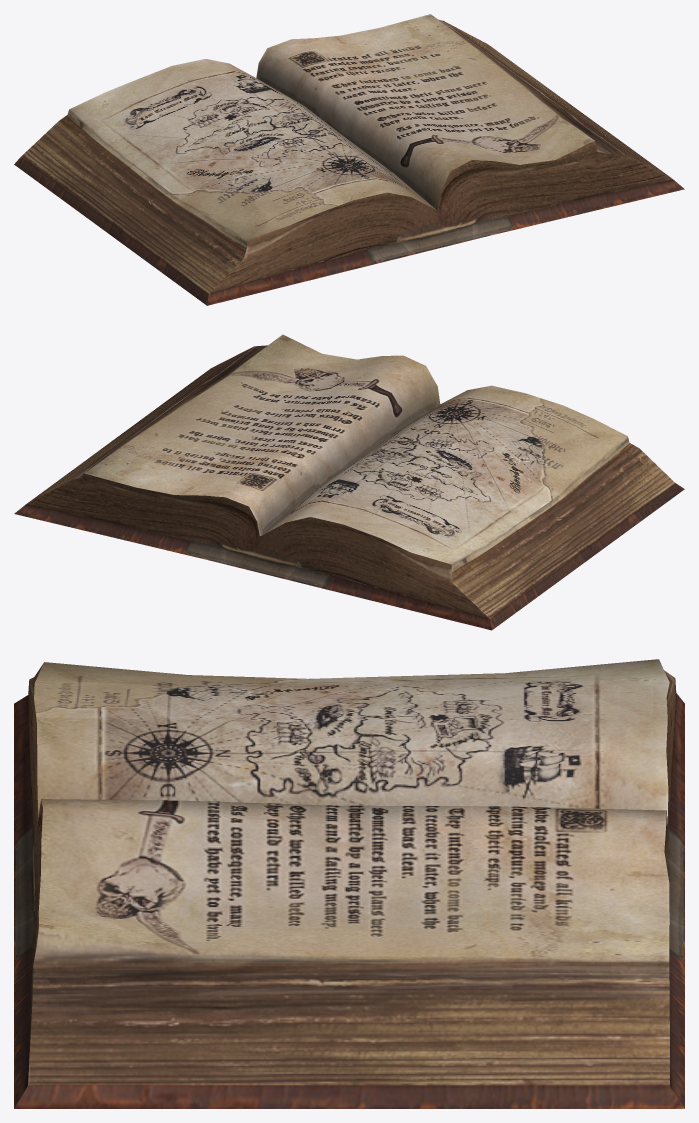
The model's file is SM_OpenBook.FBX.
3 views of the same model, one above another, from view 1: azimuth 30°, elevation 25°; view 2: azimuth 150°, elevation 25°; view 3: azimuth 270°, elevation 25° (orthographic). The views are drawn at different scales.
Visible parts, largest first — view 1: SM_OpenBook; view 2: SM_OpenBook; view 3: SM_OpenBook.
Part boxes in pixels (box(x1,y1,x2,y2)): SM_OpenBook: box(14, 14, 684, 305); SM_OpenBook: box(14, 334, 684, 630); SM_OpenBook: box(14, 659, 684, 1108).
Size of what is drawn, in the model's own units: 32.81 by 22.97 by 4.79.
